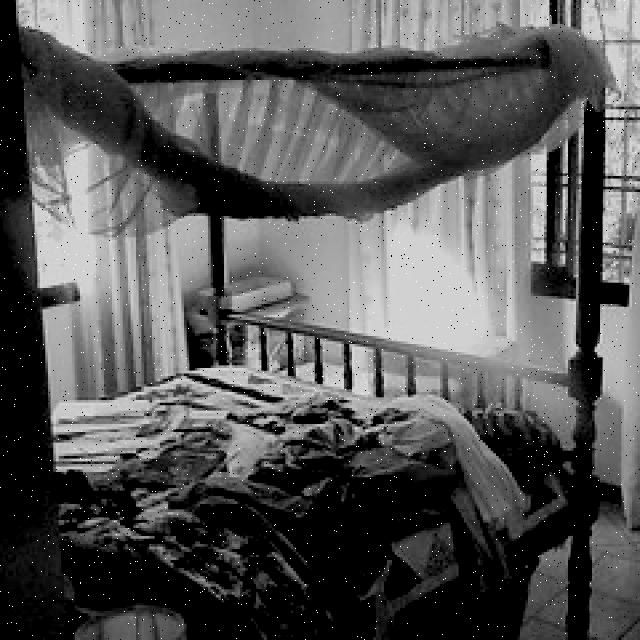bed: (0, 359, 590, 640)
